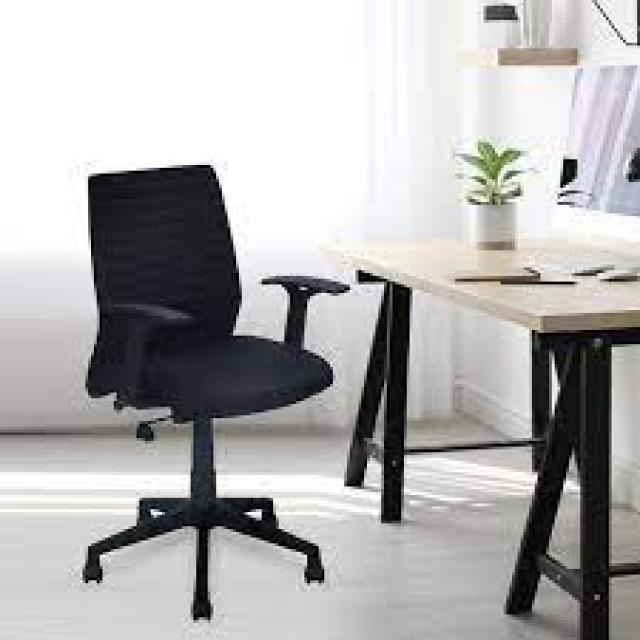chair: (28, 110, 361, 640)
